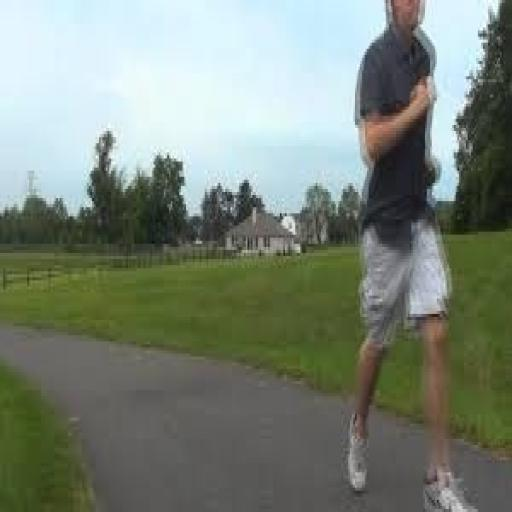running: (343, 0, 478, 509)
